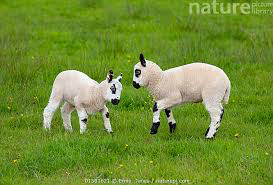koyun: (132, 54, 232, 139), (43, 70, 124, 135)
